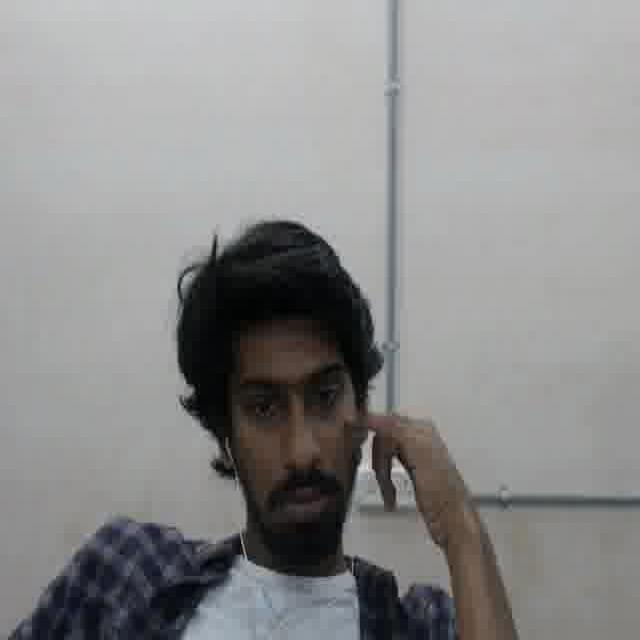Boredom: (227, 321, 358, 544)
